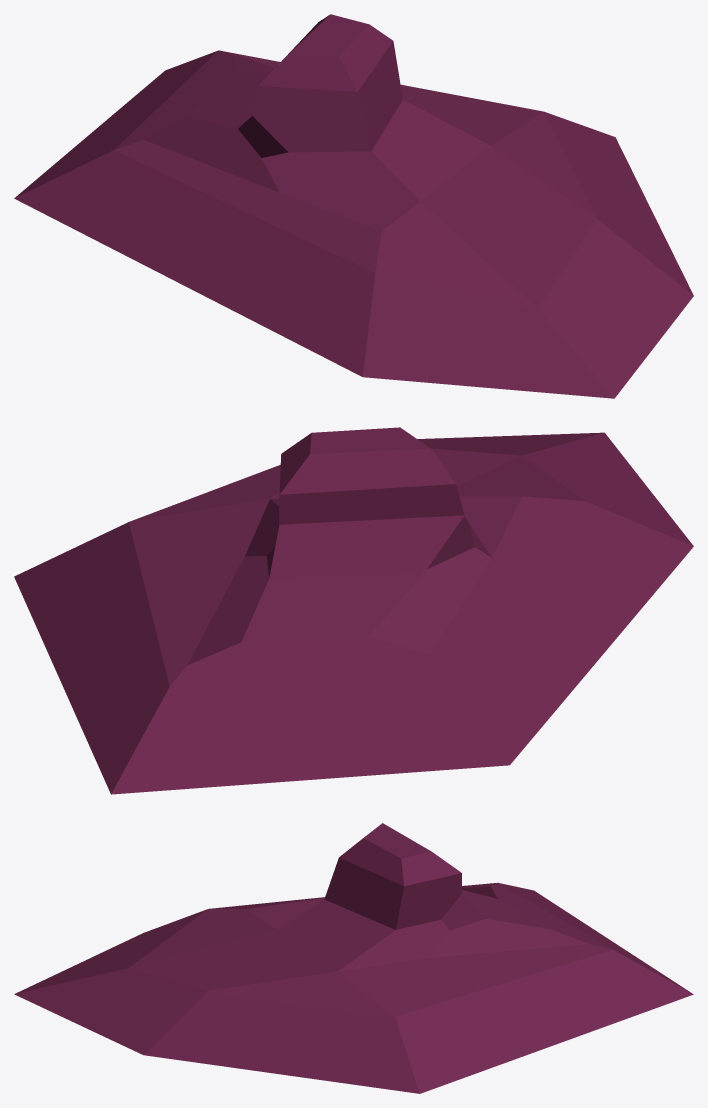
The model's file is Rock1.fbx.
The picture shows the model from 3 angles, top to bottom: view 1: azimuth 30°, elevation 25°; view 2: azimuth 150°, elevation 25°; view 3: azimuth 270°, elevation 25°; orthographic projection. The views are drawn at different scales.
Parts seen in each view (by area): view 1: Circle; view 2: Circle; view 3: Circle.
Part boxes in pixels (x1,y1,x2,y2): Circle: [14, 14, 693, 398]; Circle: [14, 427, 693, 794]; Circle: [14, 823, 693, 1093].
Bounding box in the file's own units: 641 × 215 × 948.
